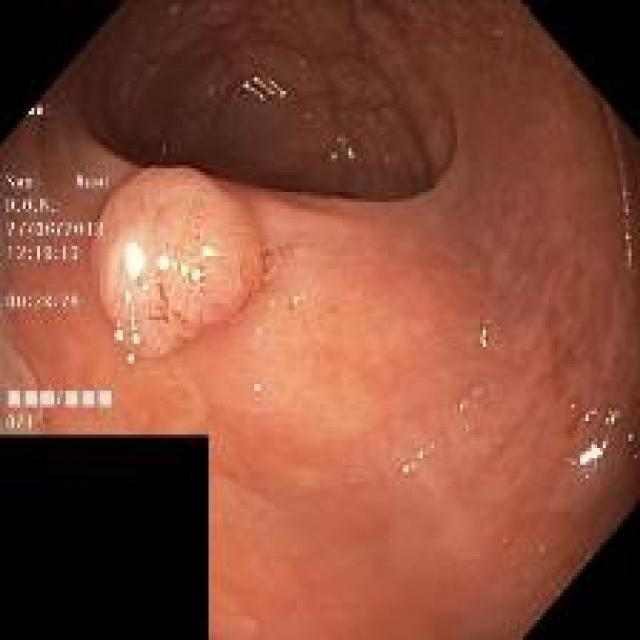Polyps: (92, 168, 265, 363)
